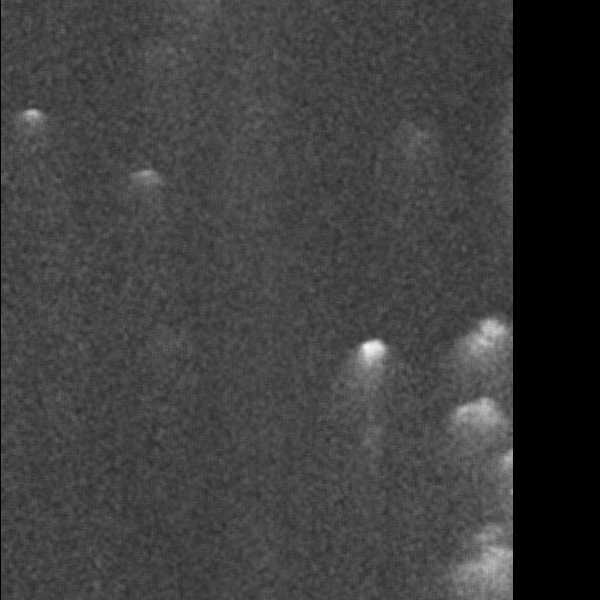spark: (332, 478, 385, 546), (83, 26, 119, 109), (66, 154, 104, 183)
